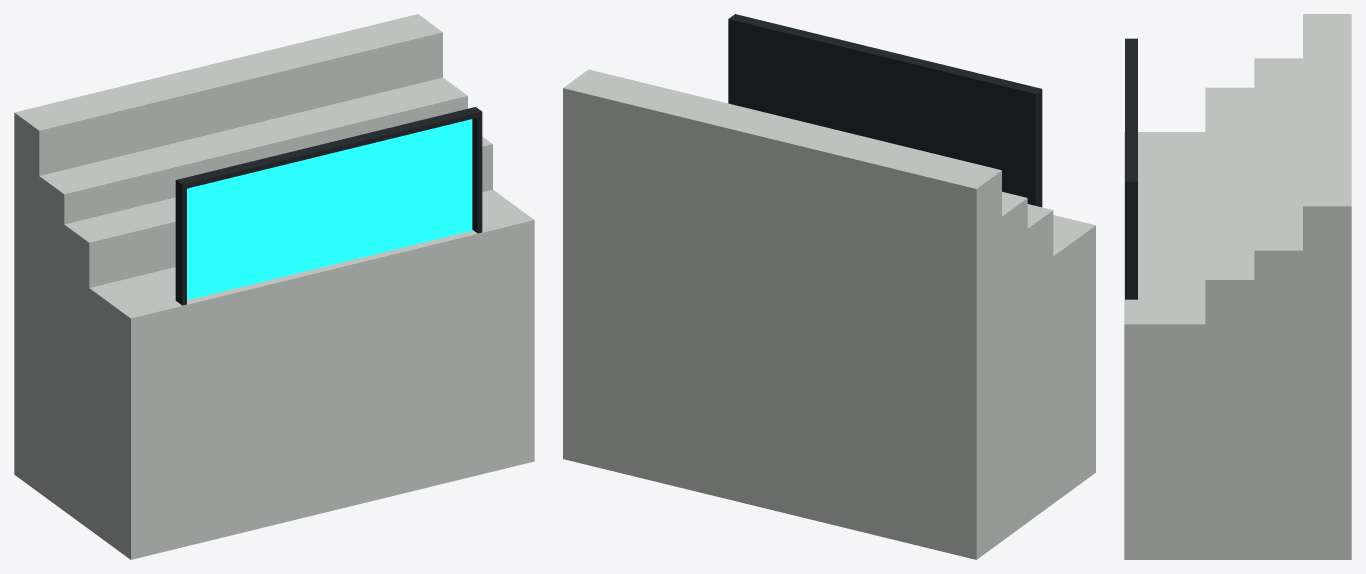
File: ss_console_terminal.glb
3 views of the same model, side by side, from view 1: azimuth 30°, elevation 25°; view 2: azimuth 150°, elevation 25°; view 3: azimuth 270°, elevation 25° (orthographic). The views are drawn at different scales.
Parts seen in each view (by area): view 1: console_body, ScreenPlane, console_backing; view 2: console_body, console_backing; view 3: console_body, console_backing.
Part boxes in pixels (x1,y1,x2,y2): console_body: (14, 14, 534, 559); ScreenPlane: (187, 119, 472, 300); console_backing: (175, 107, 482, 305); console_body: (563, 69, 1095, 559); console_backing: (728, 14, 1042, 207); console_body: (1124, 14, 1351, 559); console_backing: (1125, 38, 1137, 299).
Bounding box in the file's own units: 1.4 × 1.2 × 0.7.
